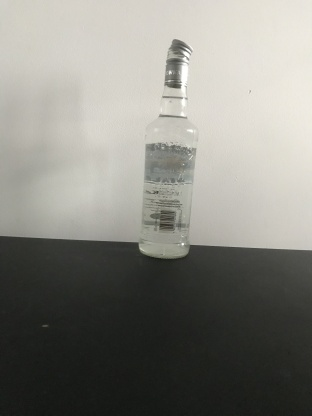nakretka: (163, 37, 194, 87)
